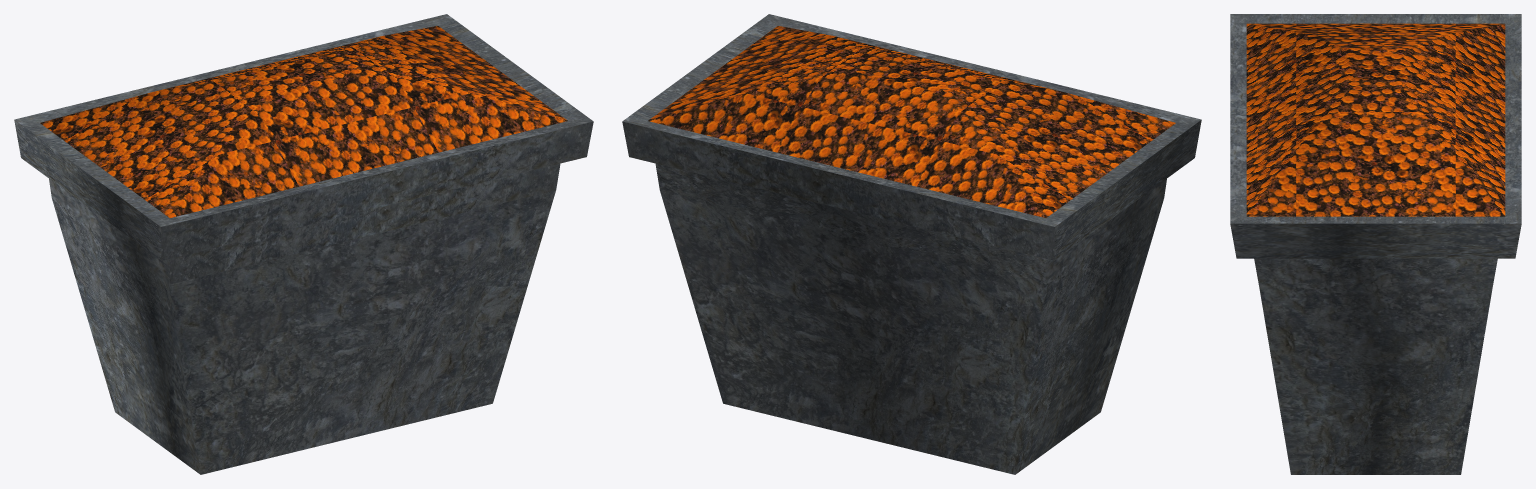
The model's file is redPlanter.fbx.
3 renders of one model, left to right at view 1: azimuth 30°, elevation 25°; view 2: azimuth 150°, elevation 25°; view 3: azimuth 270°, elevation 25°, orthographic.
Parts seen in each view (by area): view 1: pCube39; view 2: pCube39; view 3: pCube39.
Part boxes in pixels (box(x1,y1,x2,y2)): pCube39: box(14, 14, 593, 474); pCube39: box(622, 14, 1201, 474); pCube39: box(1230, 14, 1521, 474).
Size of the model in its own units: 4.1 by 3.03 by 2.41.
Materials: 2 (2 with a texture image).
